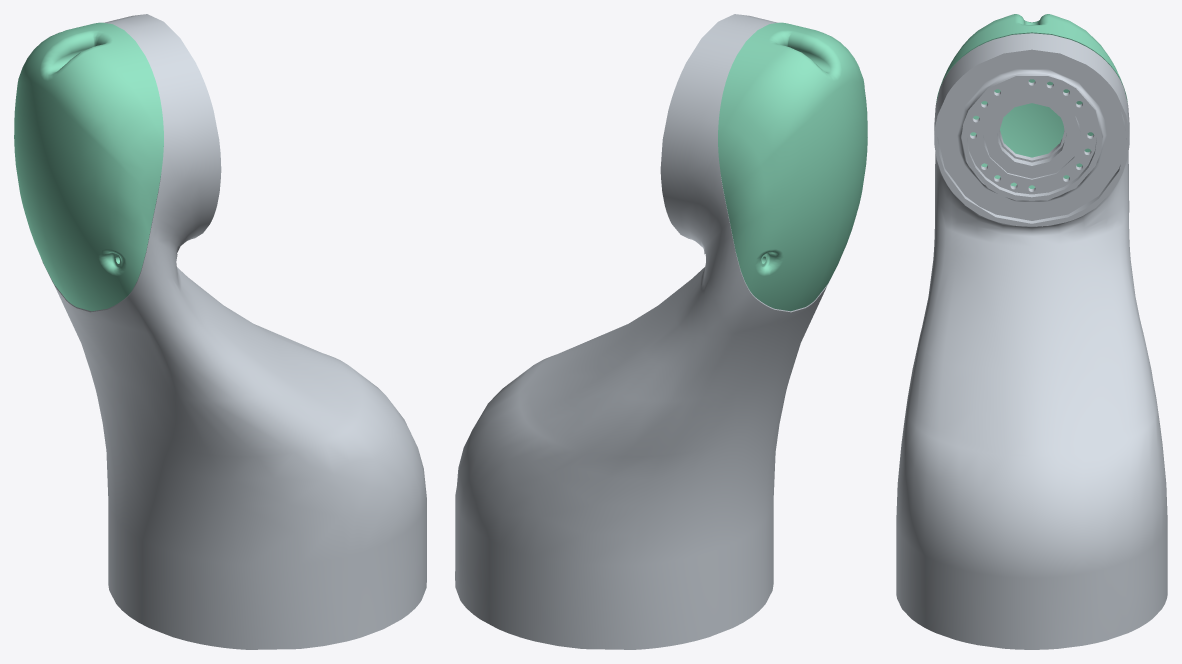
Rendered from coro_7_link5.dae.
3 views of the same model, side by side, from view 1: azimuth 30°, elevation 25°; view 2: azimuth 150°, elevation 25°; view 3: azimuth 270°, elevation 25° (orthographic). The views are drawn at different scales.
Parts seen in each view (by area): view 1: __012; view 2: __012; view 3: __012.
Boxes of the visible parts, x1,y1,x2,y2 form: __012: [14, 14, 426, 649]; __012: [455, 14, 867, 649]; __012: [896, 14, 1167, 649].
Size of the model in its own units: 0.1675 by 0.125 by 0.2544.
